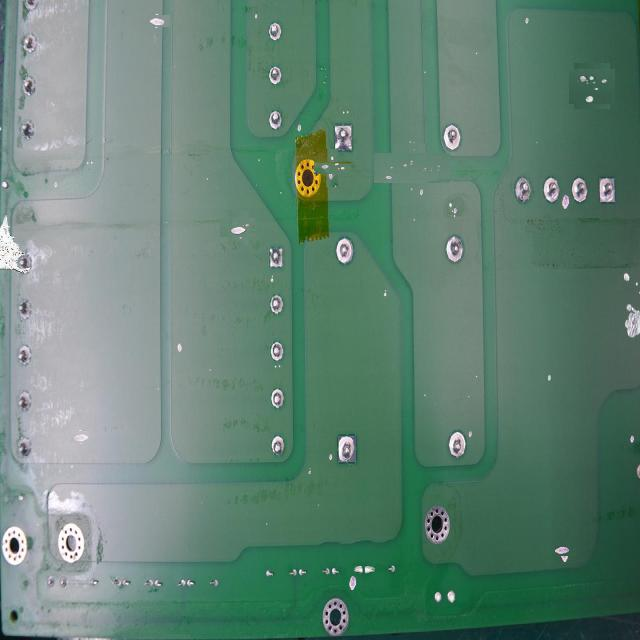spillover: (385, 142, 439, 195), (571, 66, 613, 106), (224, 214, 252, 241), (320, 155, 344, 181), (146, 11, 166, 32), (72, 429, 88, 446), (172, 339, 187, 357), (557, 543, 573, 559)
